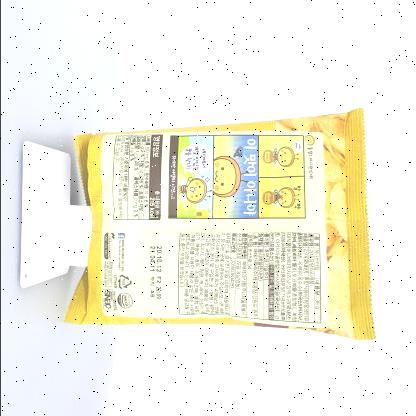Others: (57, 103, 380, 354)
